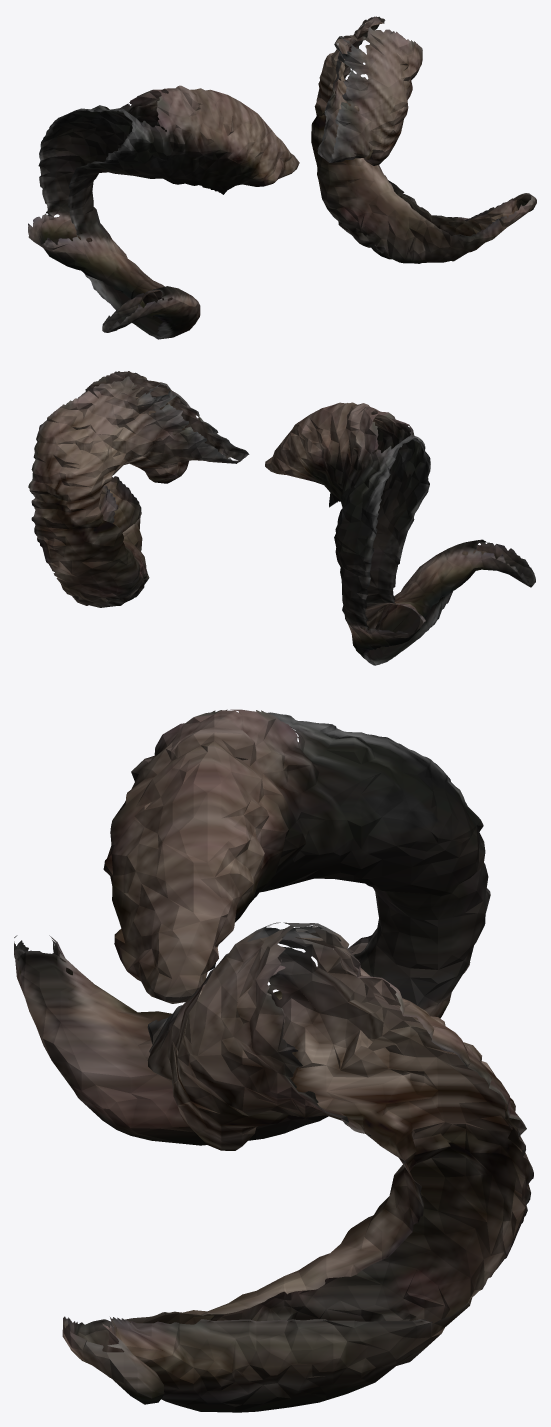
Rendered from bighorn.glb.
The picture shows the model from 3 angles, top to bottom: view 1: azimuth 30°, elevation 25°; view 2: azimuth 150°, elevation 25°; view 3: azimuth 270°, elevation 25°; orthographic projection. The views are drawn at different scales.
Parts seen in each view (by area): view 1: geometry_0; view 2: geometry_0; view 3: geometry_0.
Boxes of the visible parts, x1,y1,x2,y2 form: geometry_0: (28,16,536,339); geometry_0: (28,371,535,665); geometry_0: (14,709,533,1412).
Size of the model in its own units: 1.01 by 0.4903 by 0.5106.
1 material, 1 textured.
